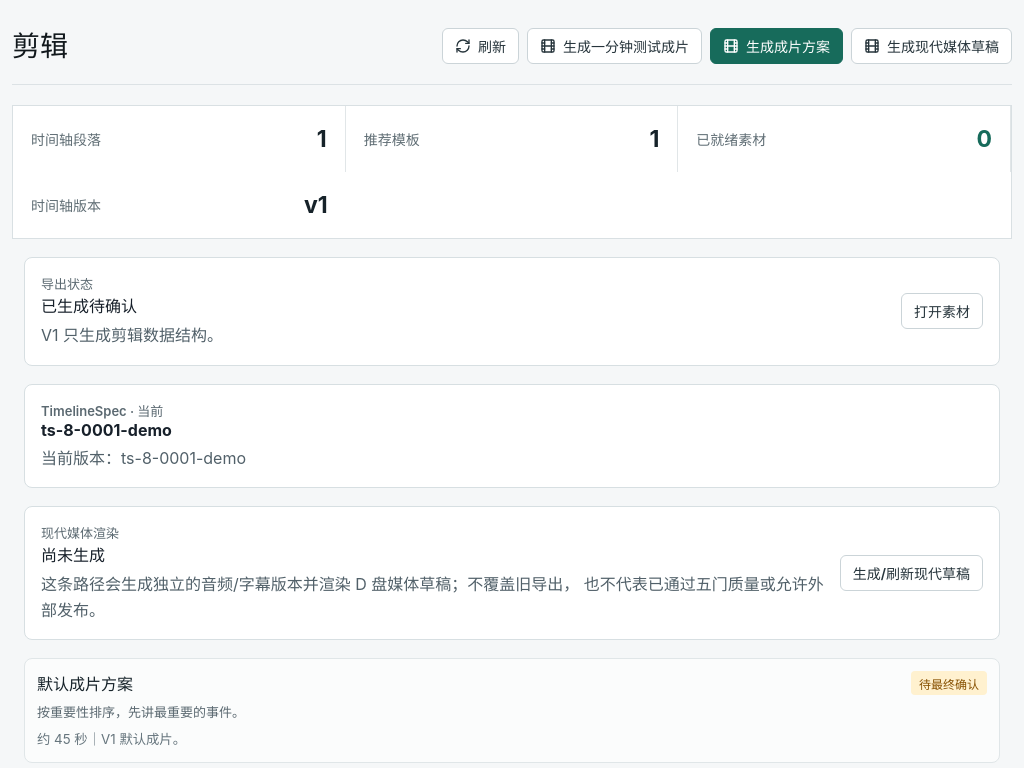
Test case: 剪辑页面 › 剪辑页能从现代媒体草稿入口生成相对路径产物
Click the button "生成现代媒体草稿".
click(932, 46)  # box x1=851 y1=28 x2=1012 y2=64
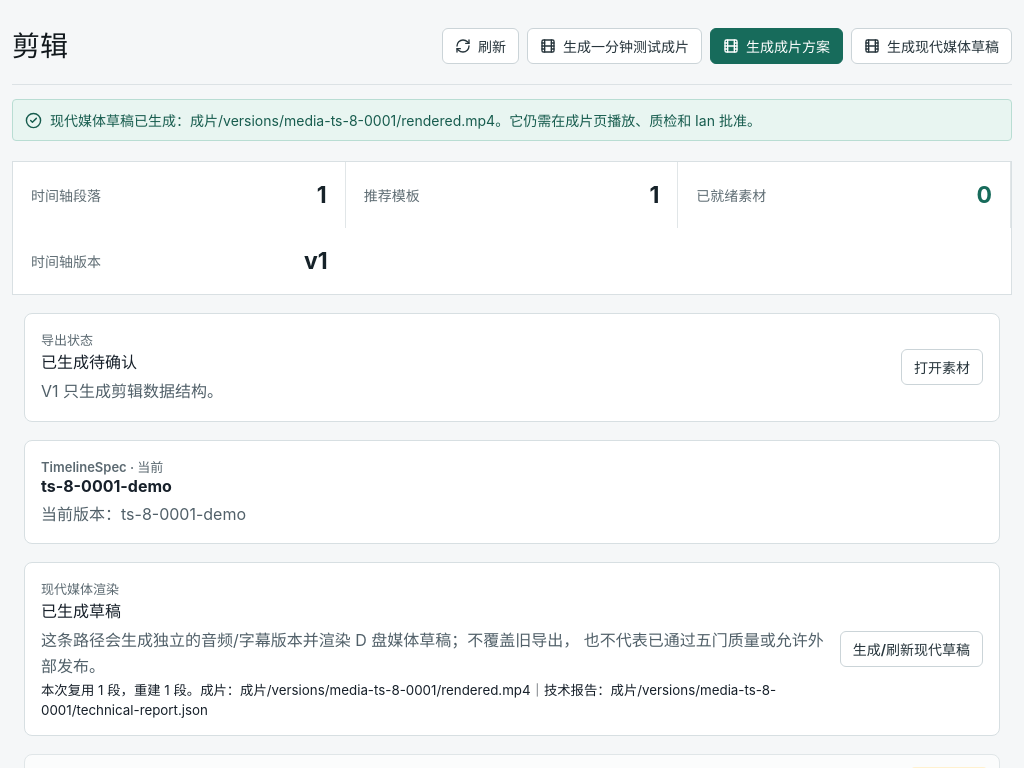
Now the text "成片/versions/media-ts-8-0001/rendered.mp4" is shown, box x1=50 y1=112 x2=761 y2=129
Now the text "本次复用 1 段，重建 1 段。" is shown, box x1=41 y1=682 x2=200 y2=698
